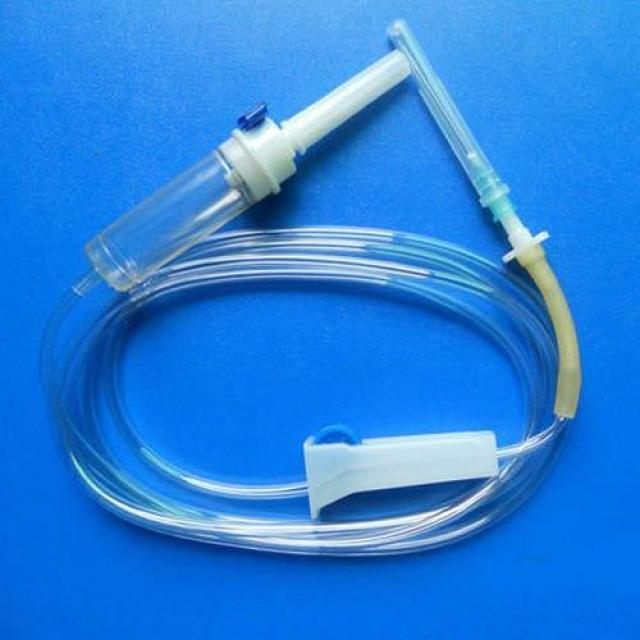B3: (32, 22, 588, 570)
